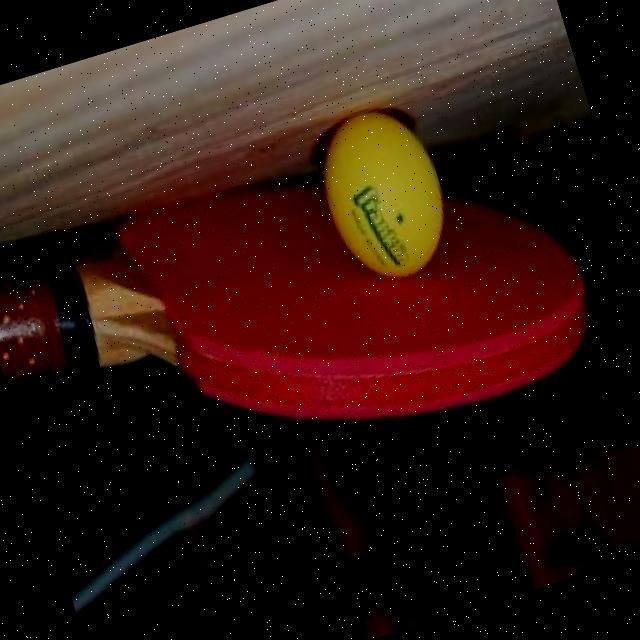ping-pong-ball: (302, 97, 462, 297)
